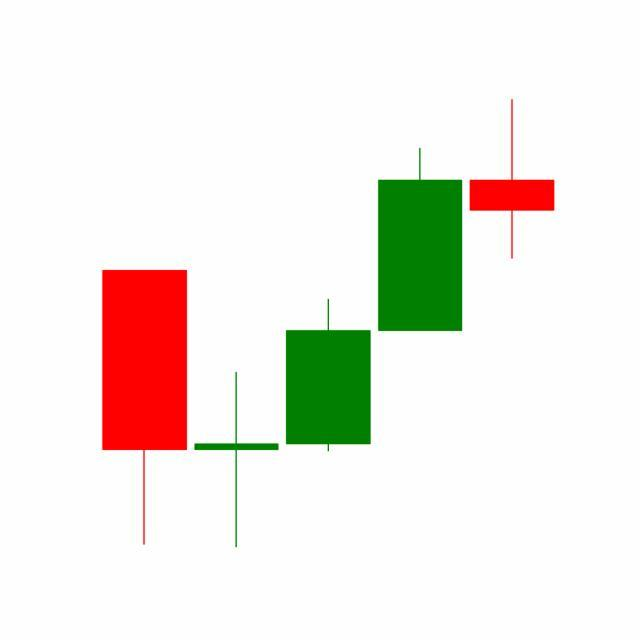Spinning Top: (466, 98, 559, 262)
